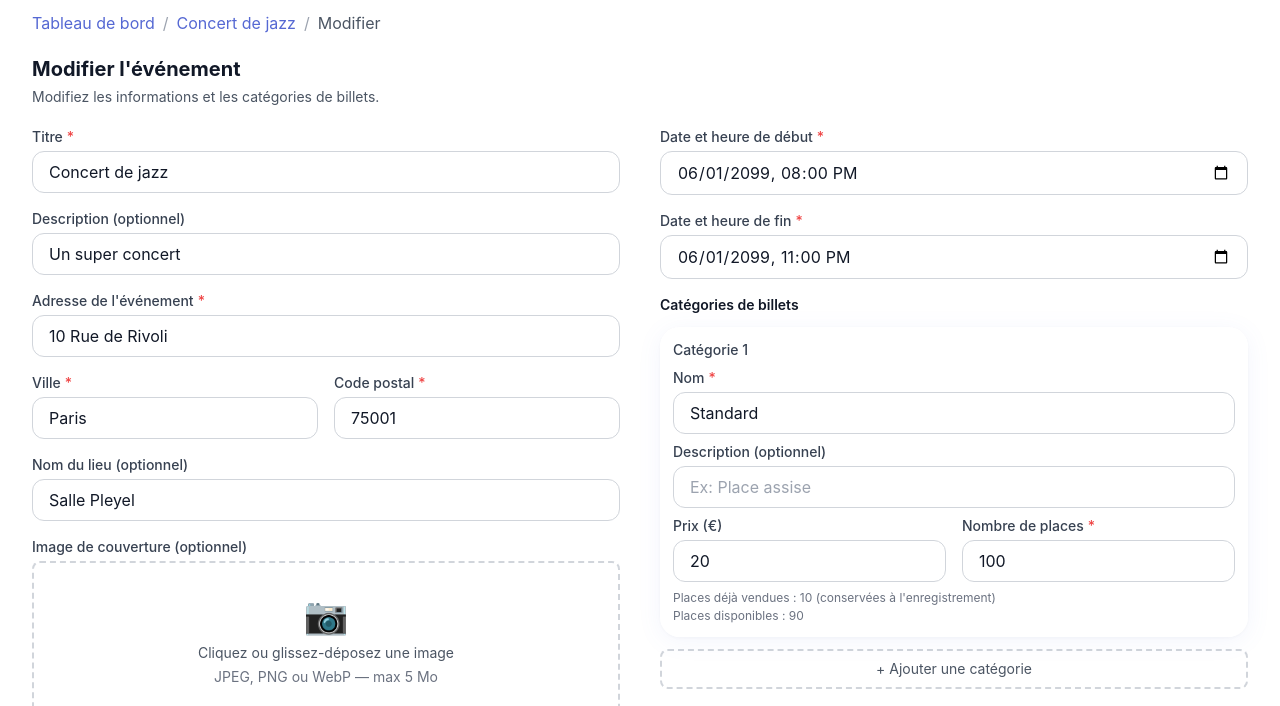
EventEditPage - professional event › rejects an end date before the start date
The width and height of the screenshot is (1280, 706).
Expected: the heading "Modifier l'événement" is shown, [32, 57, 240, 81]
Replace the text in the field labelled "Date et heure de fin*" with "2099-05-01T10:00" at (954, 257), box [660, 235, 1248, 279]
(page scrolled)
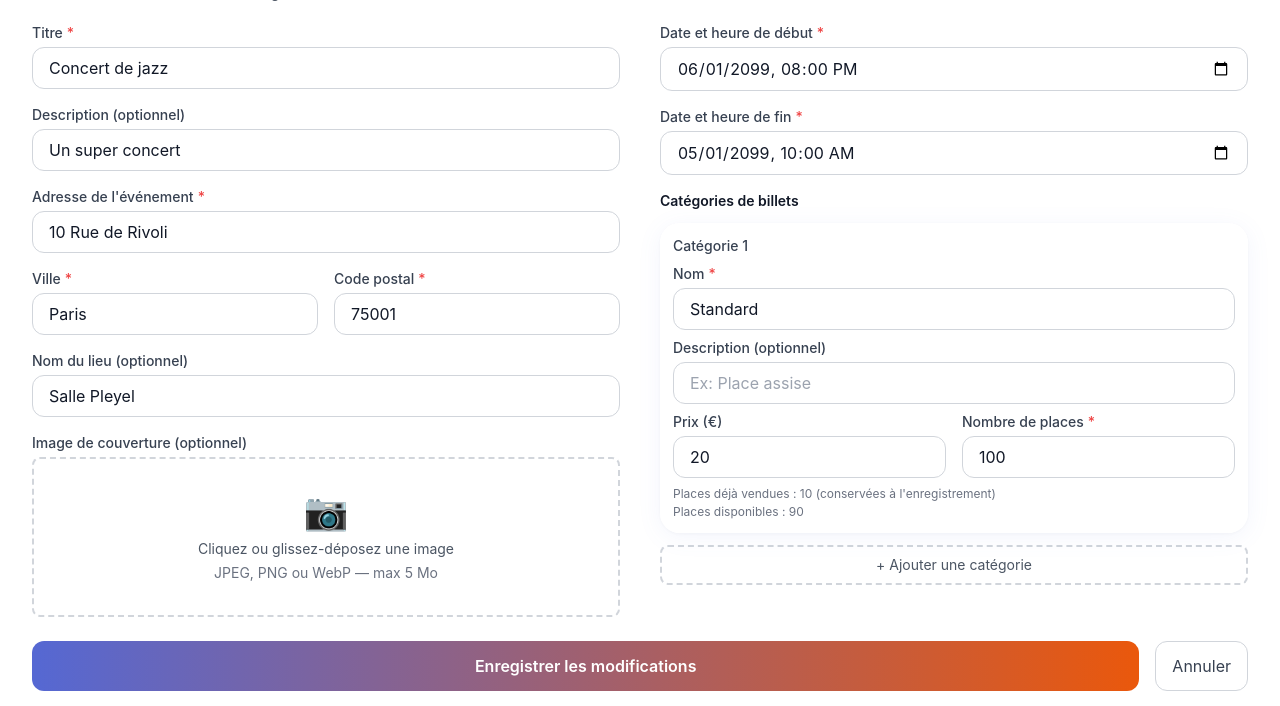
Click the button "Enregistrer les modifications".
click(586, 666)  # box [32, 641, 1139, 691]
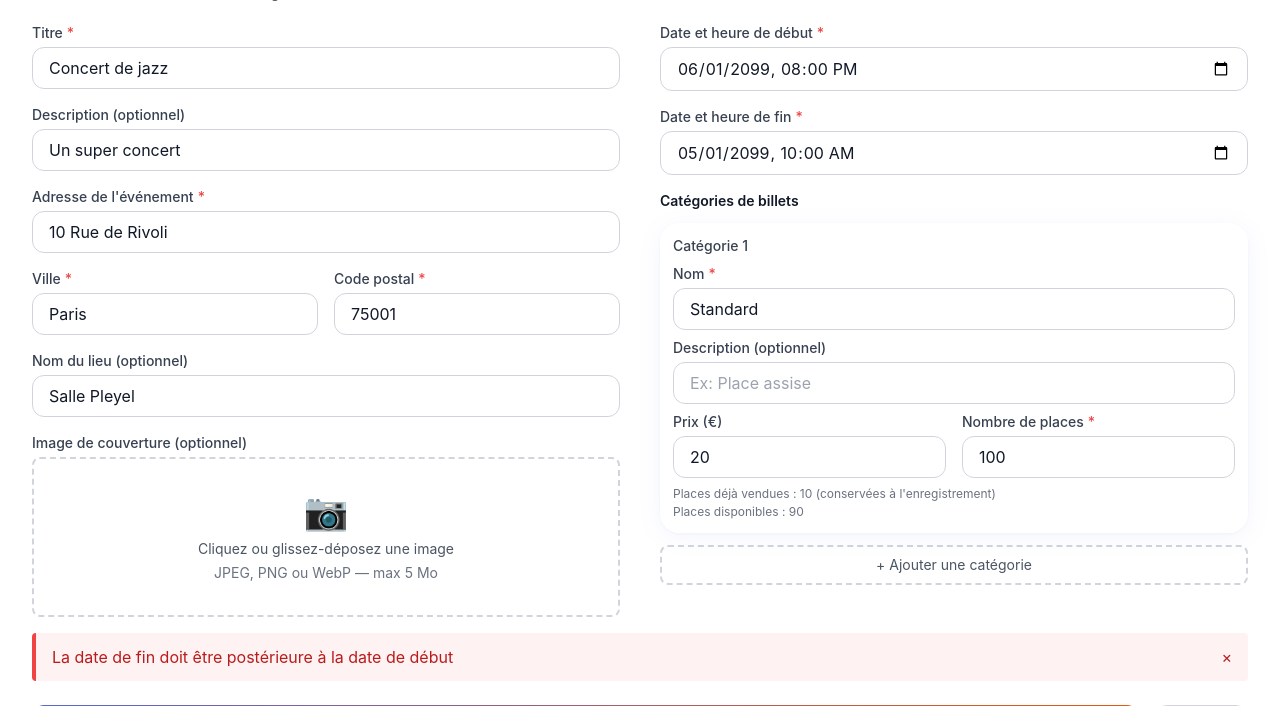
Expected: the text "La date de fin doit être postérieure à la date de début" is shown, [52, 645, 453, 669]
